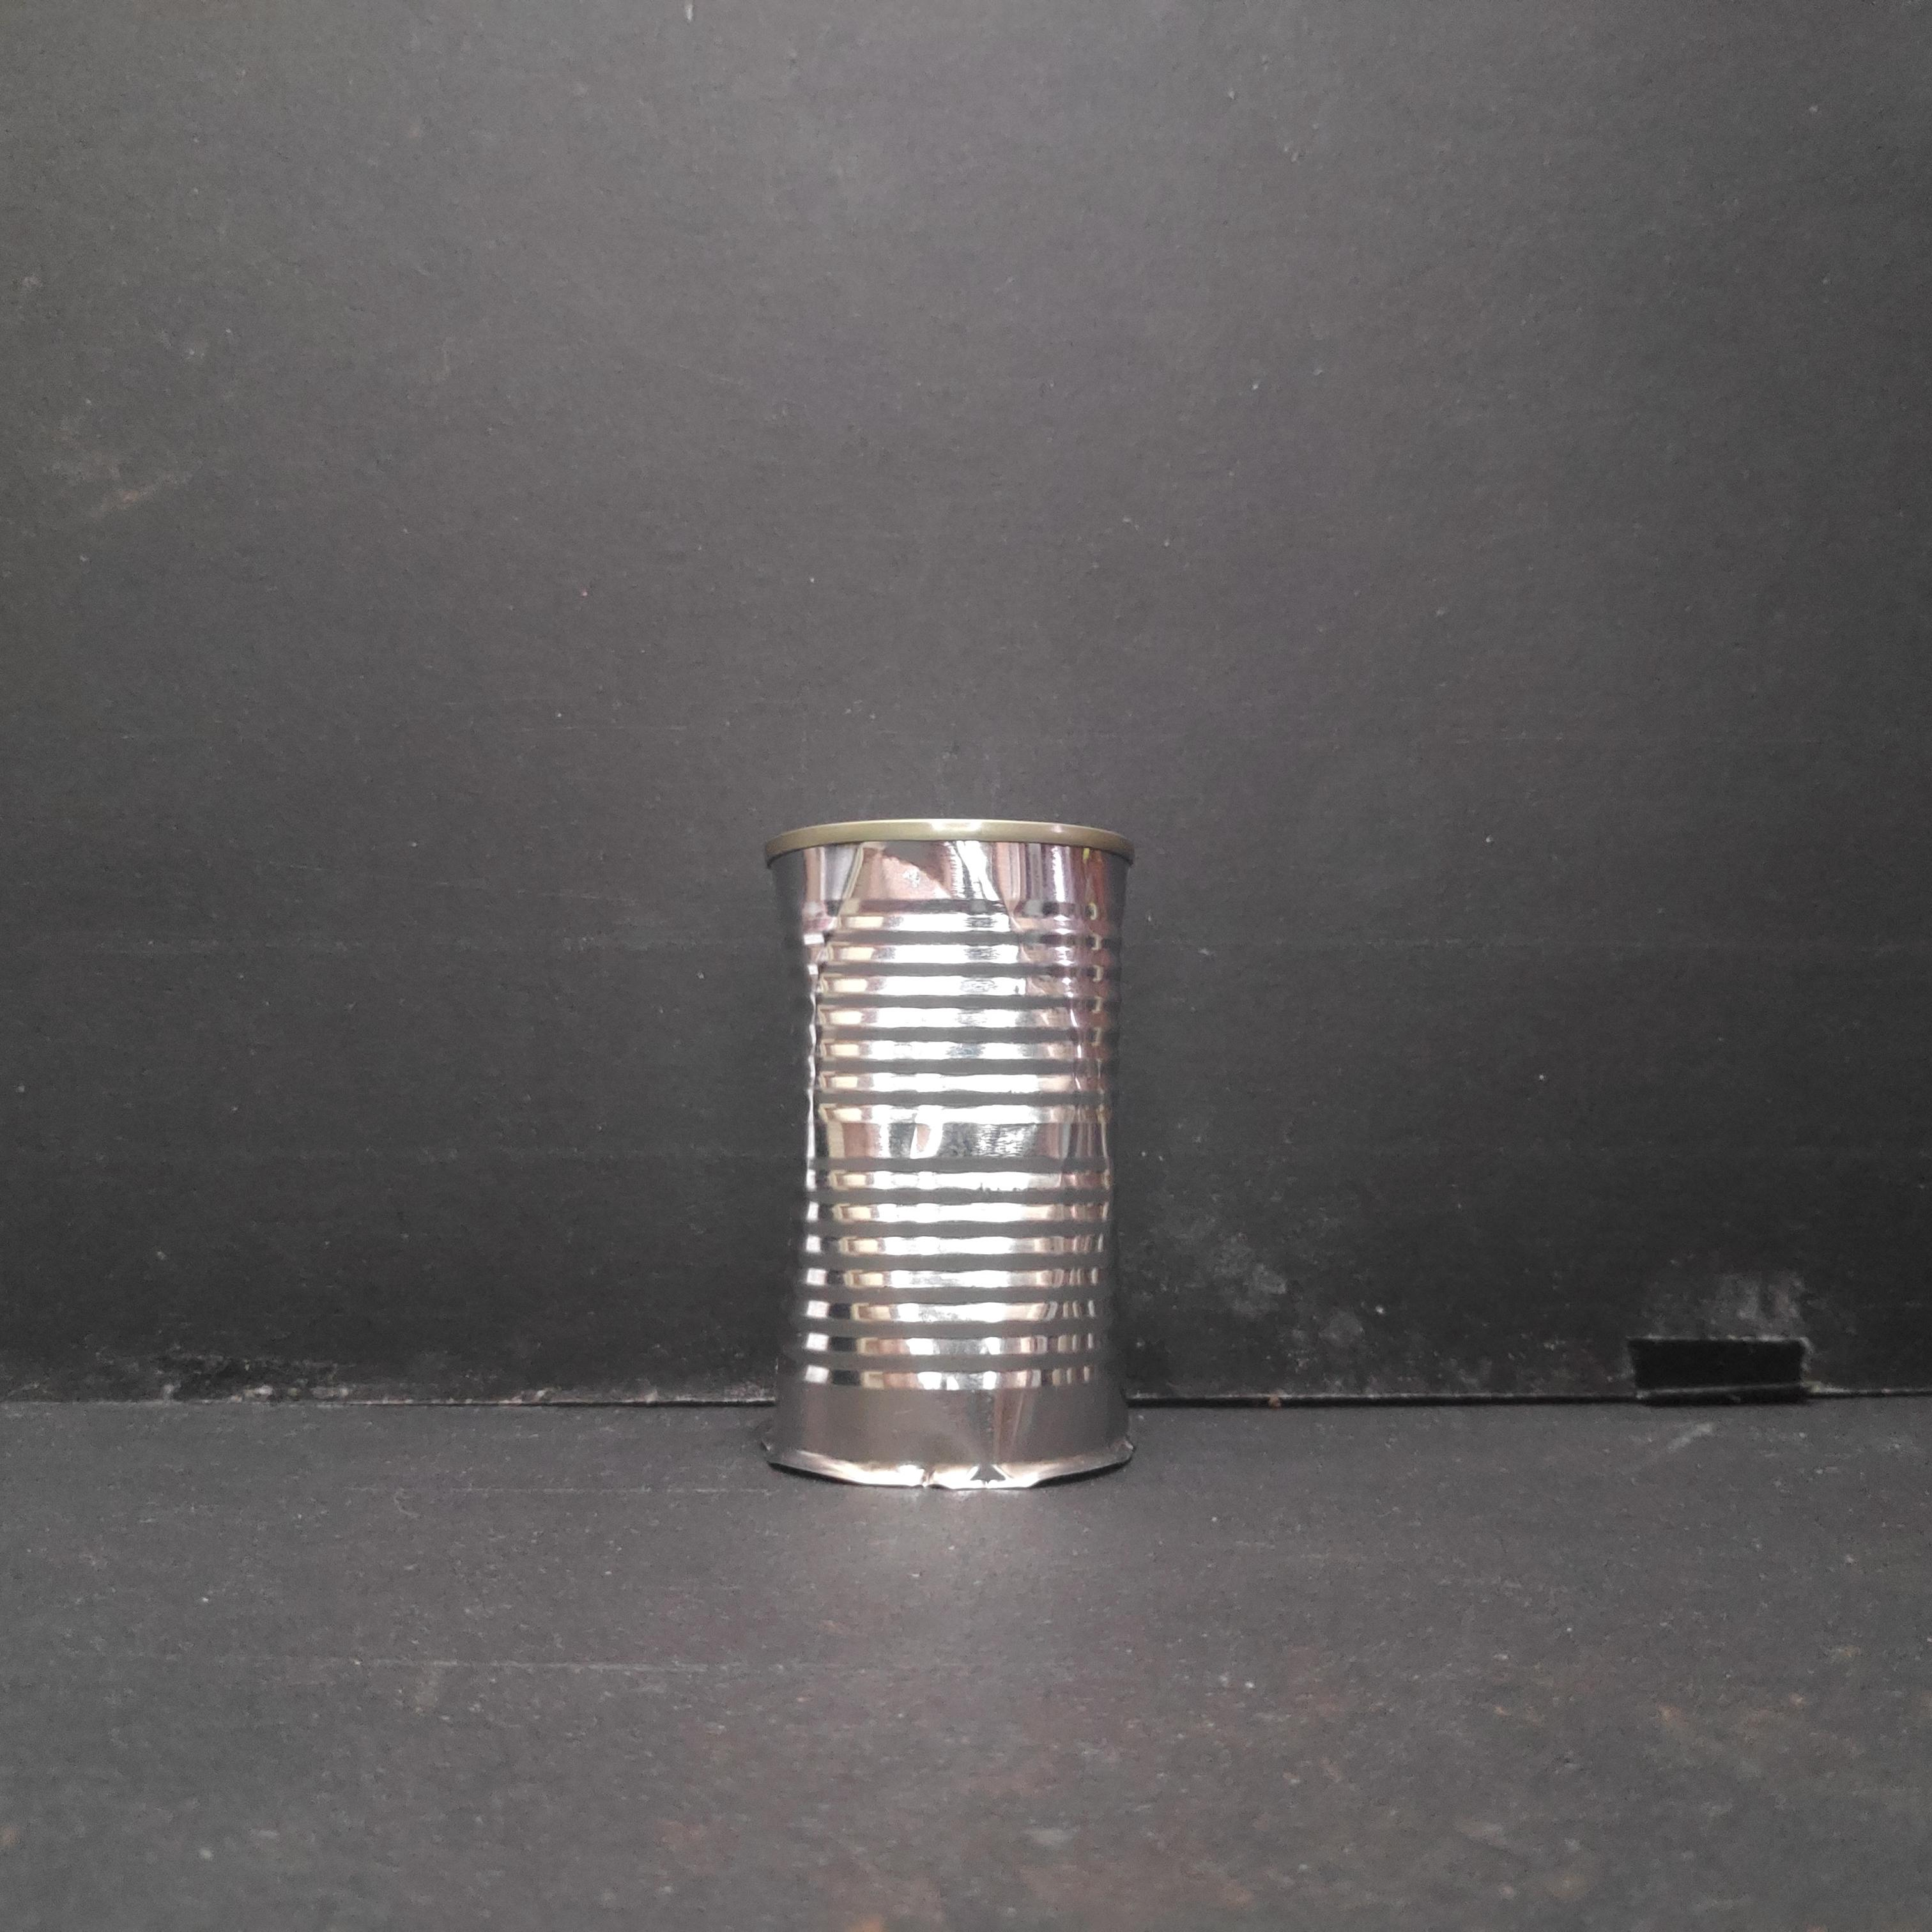Minor Defect: (752, 812, 1148, 1507)
